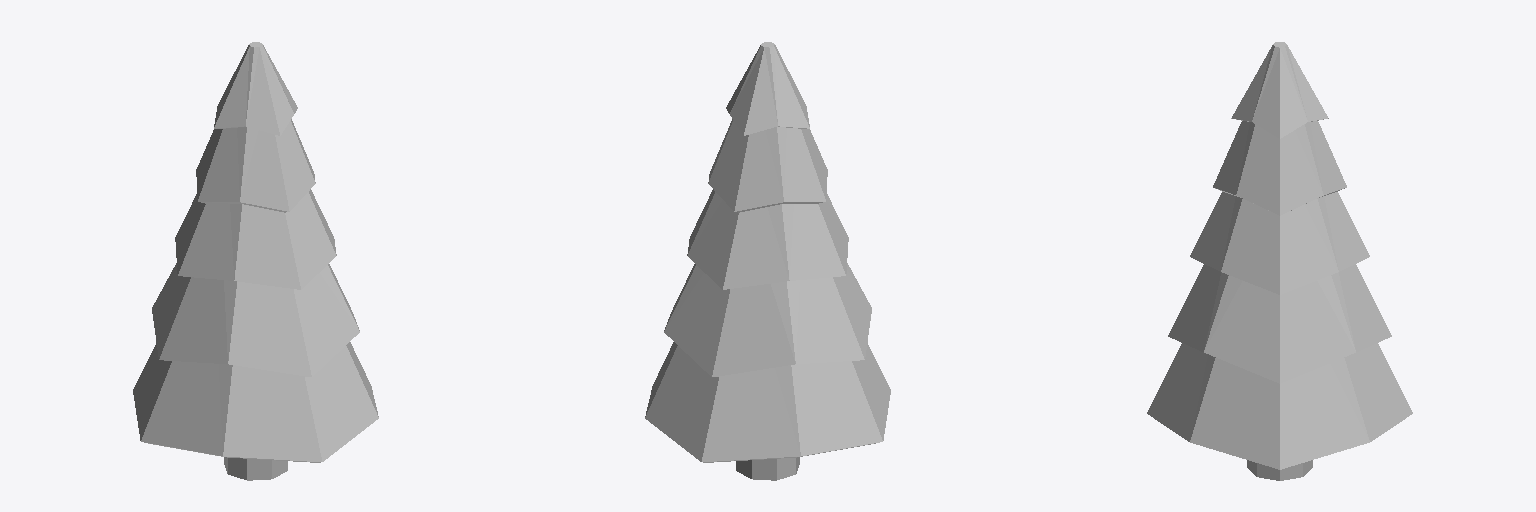
Rendered from Tree.obj.
3 renders of one model, left to right at view 1: azimuth 30°, elevation 25°; view 2: azimuth 150°, elevation 25°; view 3: azimuth 270°, elevation 25°, orthographic.
Size of the model in its own units: 6.65 by 11.65 by 6.65.